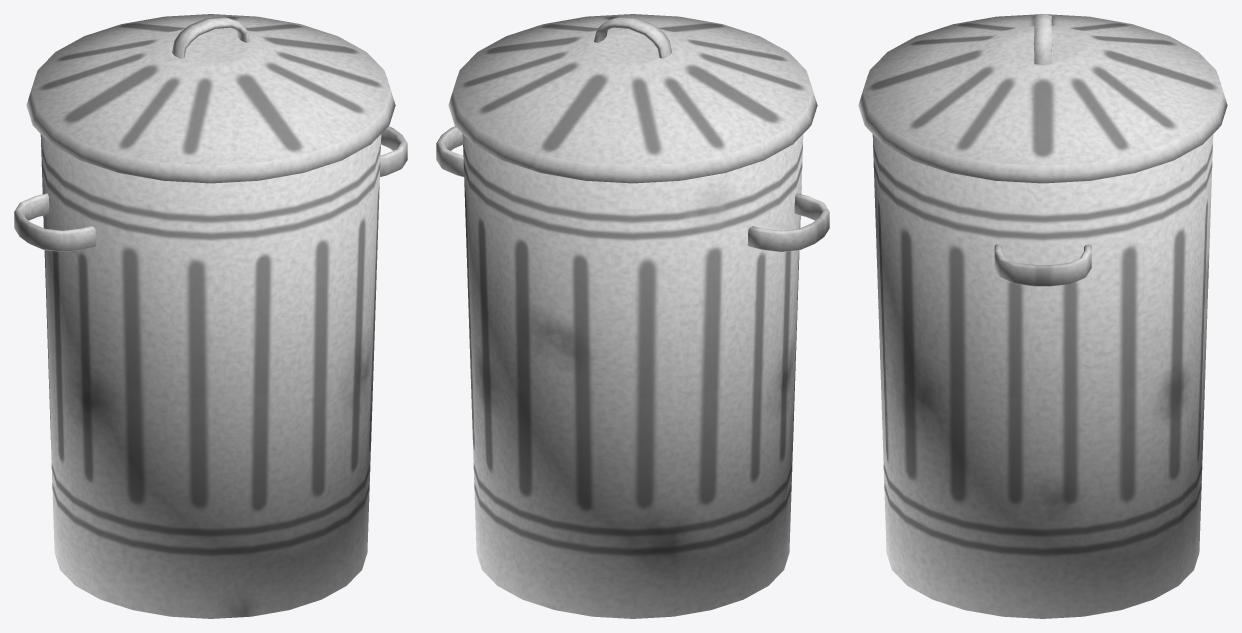
Rendered from trash_bin.glb.
3 renders of one model, left to right at view 1: azimuth 30°, elevation 25°; view 2: azimuth 150°, elevation 25°; view 3: azimuth 270°, elevation 25°, orthographic.
Parts seen in each view (by area): view 1: Circle.002_0; view 2: Circle.002_0; view 3: Circle.002_0.
Boxes of the visible parts, x1,y1,x2,y2 form: Circle.002_0: (14, 14, 407, 618); Circle.002_0: (436, 14, 829, 618); Circle.002_0: (858, 14, 1227, 618).
Bounding box in the file's own units: 2.29 × 3.12 × 1.96.
1 material, 1 textured.
